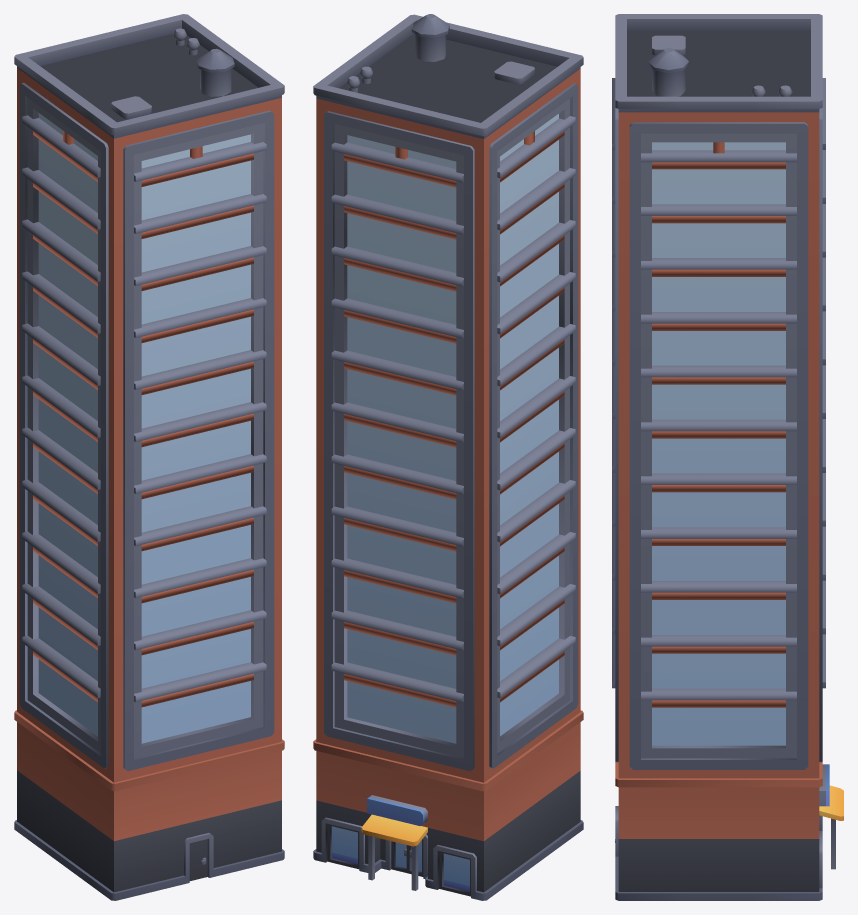
File: building-skyscraper-d-b.glb
3 renders of one model, left to right at view 1: azimuth 30°, elevation 25°; view 2: azimuth 150°, elevation 25°; view 3: azimuth 270°, elevation 25°, orthographic. The views are drawn at different scales.
Visible parts, largest first — view 1: building-skyscraper-d; view 2: building-skyscraper-d; view 3: building-skyscraper-d.
Part boxes in pixels (bbox=[...]): building-skyscraper-d: bbox=[14, 14, 284, 900]; building-skyscraper-d: bbox=[313, 14, 583, 900]; building-skyscraper-d: bbox=[612, 14, 843, 900].
Bounding box in the file's own units: 1.28 × 5.47 × 1.39.
Materials: 1 (1 with a texture image).
